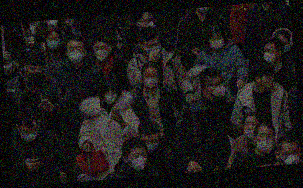mask_weared_incorrect: (243, 119, 260, 140)
with_mask: (128, 150, 150, 172), (255, 131, 276, 154), (66, 44, 85, 64), (25, 65, 45, 83), (141, 71, 160, 89), (140, 136, 160, 153), (279, 149, 301, 164), (19, 126, 38, 143), (143, 40, 162, 56), (93, 43, 109, 62), (102, 87, 119, 104), (208, 35, 226, 51), (44, 35, 62, 51), (212, 79, 227, 98), (262, 46, 276, 65), (140, 16, 158, 30), (281, 39, 291, 55)
without_mask: (261, 73, 276, 89)
